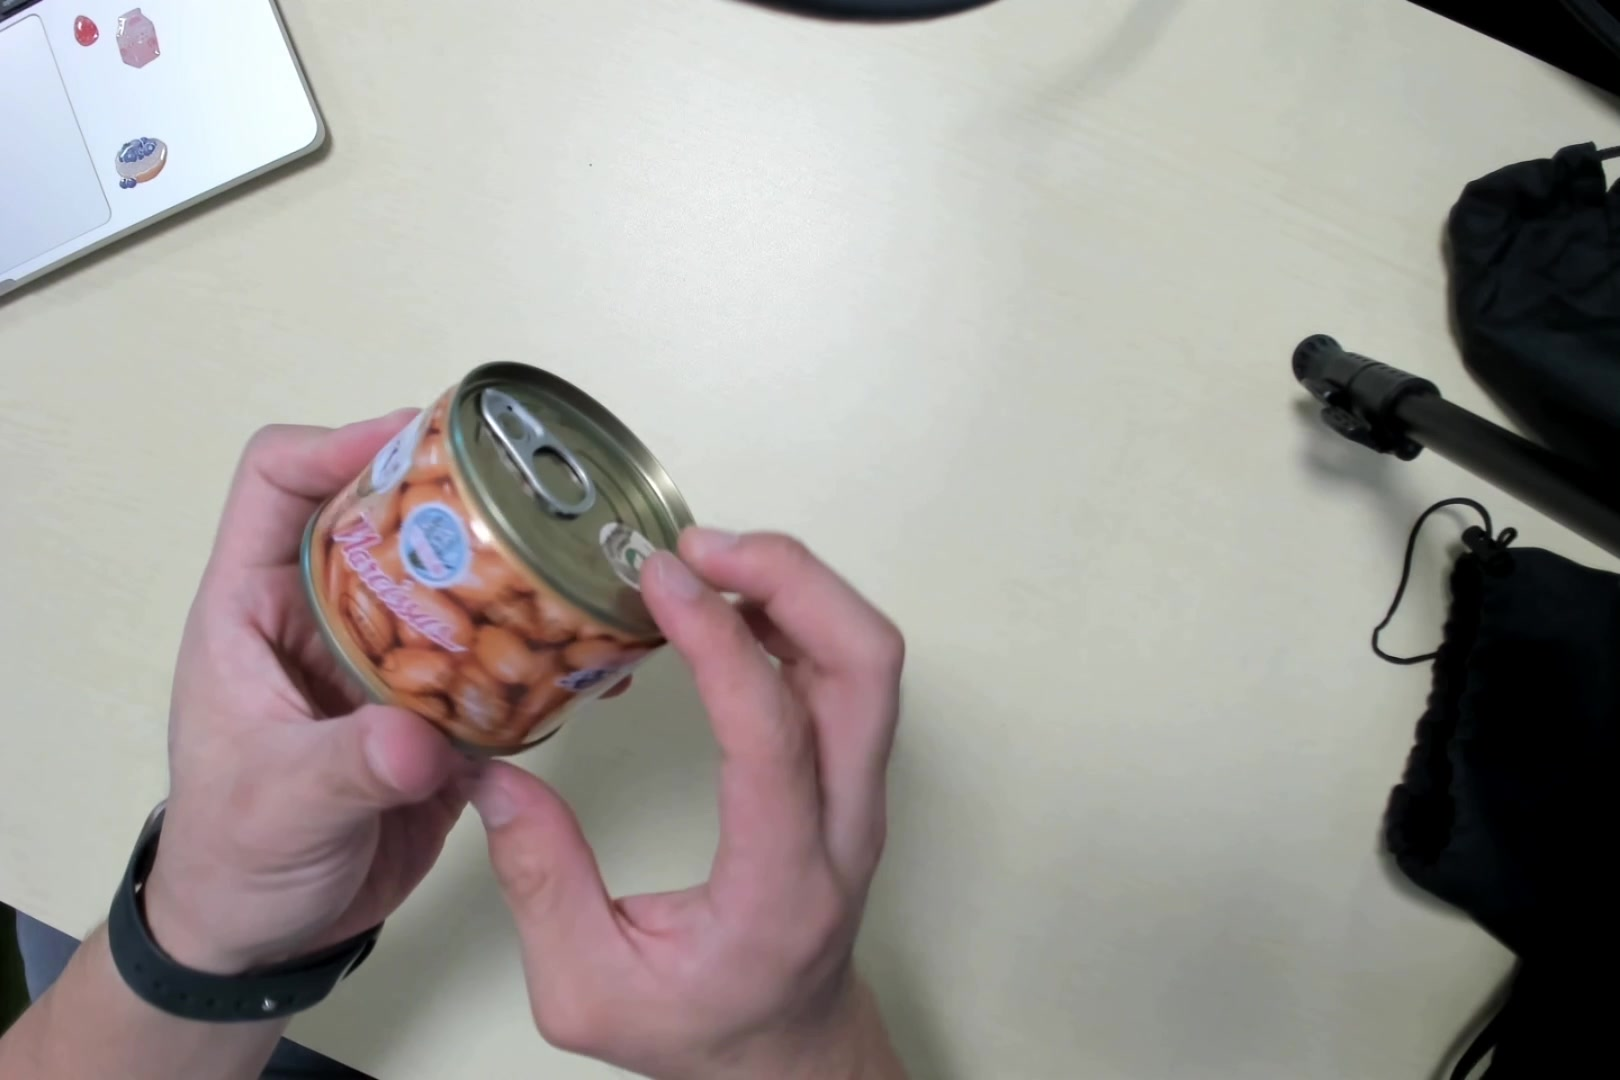CannedBraisedPeanuts_100-199g_NonHalal_NonHealthy: (301, 371, 679, 769)
